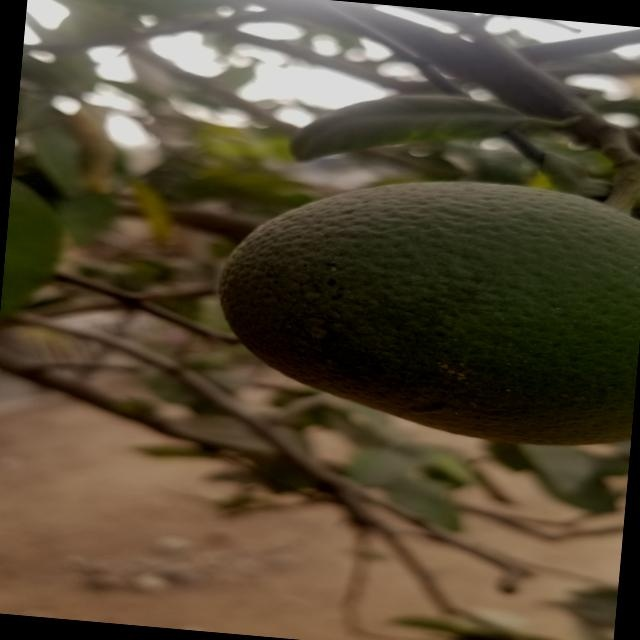agrume: (216, 155, 640, 451)
